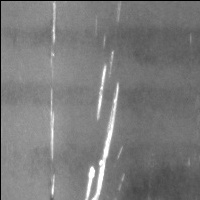scratches: (81, 76, 127, 200), (46, 4, 62, 200), (89, 50, 117, 124)
